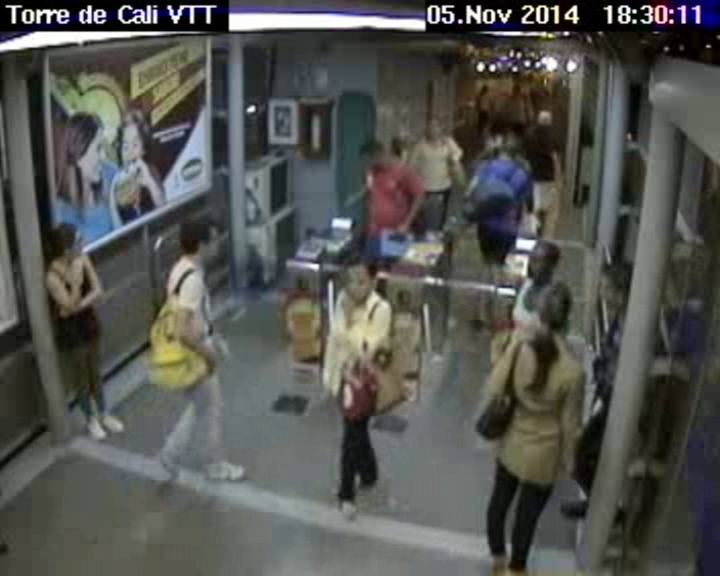person: (332, 253, 386, 303), (600, 253, 638, 317), (177, 218, 224, 265), (533, 287, 574, 336), (355, 136, 393, 175), (520, 241, 558, 276), (53, 217, 87, 256), (485, 139, 532, 159), (425, 116, 450, 150)
